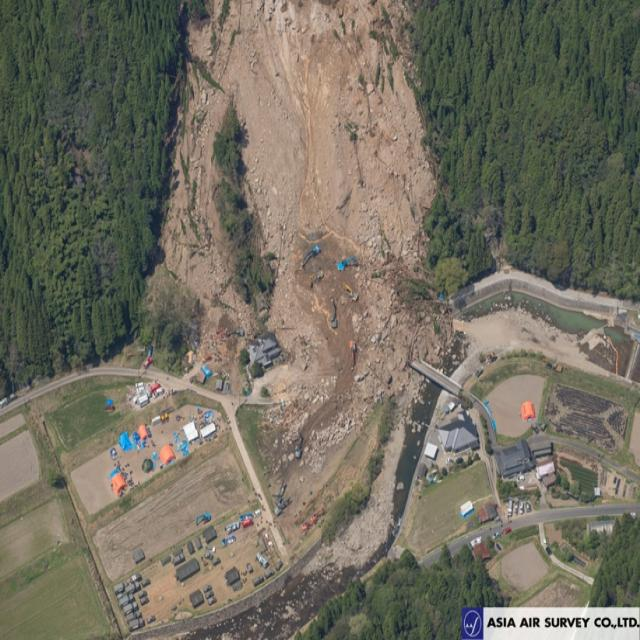Debris-flow: (161, 0, 452, 470)
